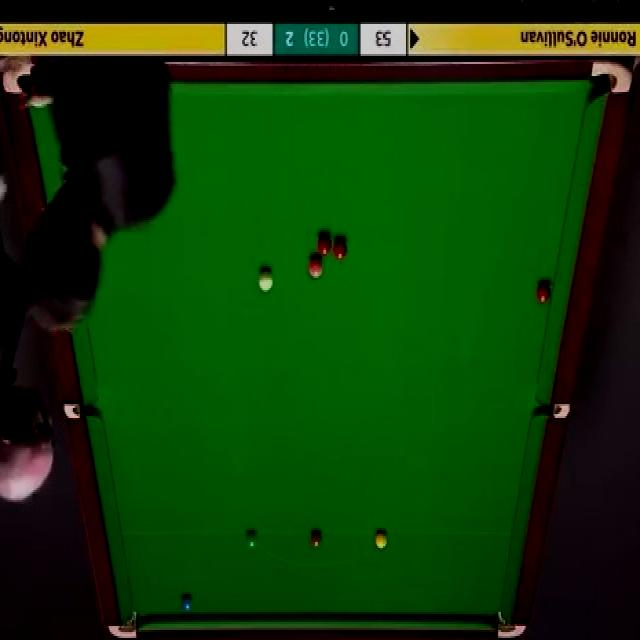blue-ball: (180, 594, 194, 613)
brown-ball: (310, 531, 323, 548)
green-ball: (244, 528, 258, 552)
pink-ball: (308, 256, 324, 280)
red-ball: (317, 230, 331, 257), (535, 282, 551, 305), (333, 239, 348, 262)
white-ball: (256, 266, 274, 292)
yellow-ball: (374, 530, 388, 551)
